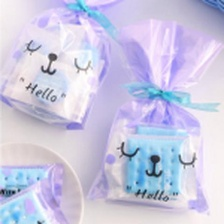snack: (80, 11, 224, 220), (0, 0, 132, 135), (0, 157, 72, 224)
